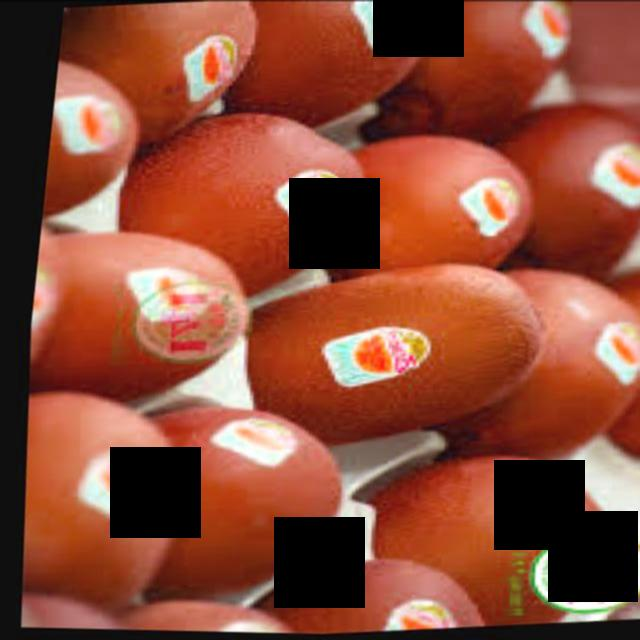kiwi: (230, 260, 555, 460), (101, 105, 376, 320), (358, 447, 636, 639), (397, 264, 640, 475), (128, 399, 358, 614), (20, 218, 258, 421), (11, 386, 199, 618), (307, 129, 545, 304), (40, 2, 262, 161), (357, 2, 580, 146), (201, 2, 433, 138), (471, 100, 640, 282)
